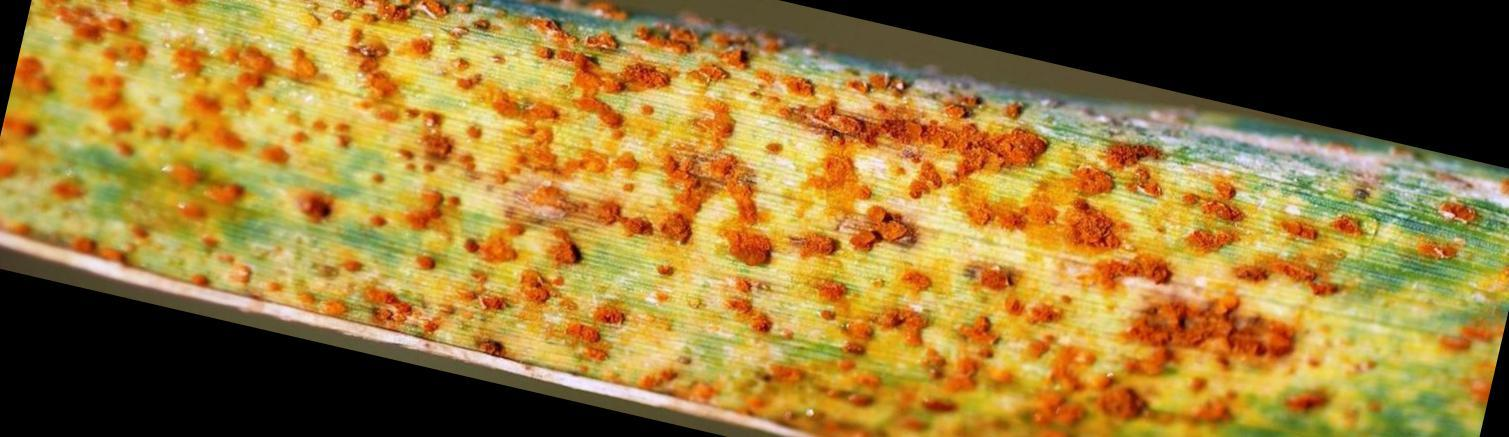Wheat: (295, 122, 1145, 261), (700, 272, 1406, 388), (301, 6, 734, 115), (85, 25, 287, 244), (401, 270, 689, 335), (1161, 173, 1335, 272), (743, 43, 862, 114)
